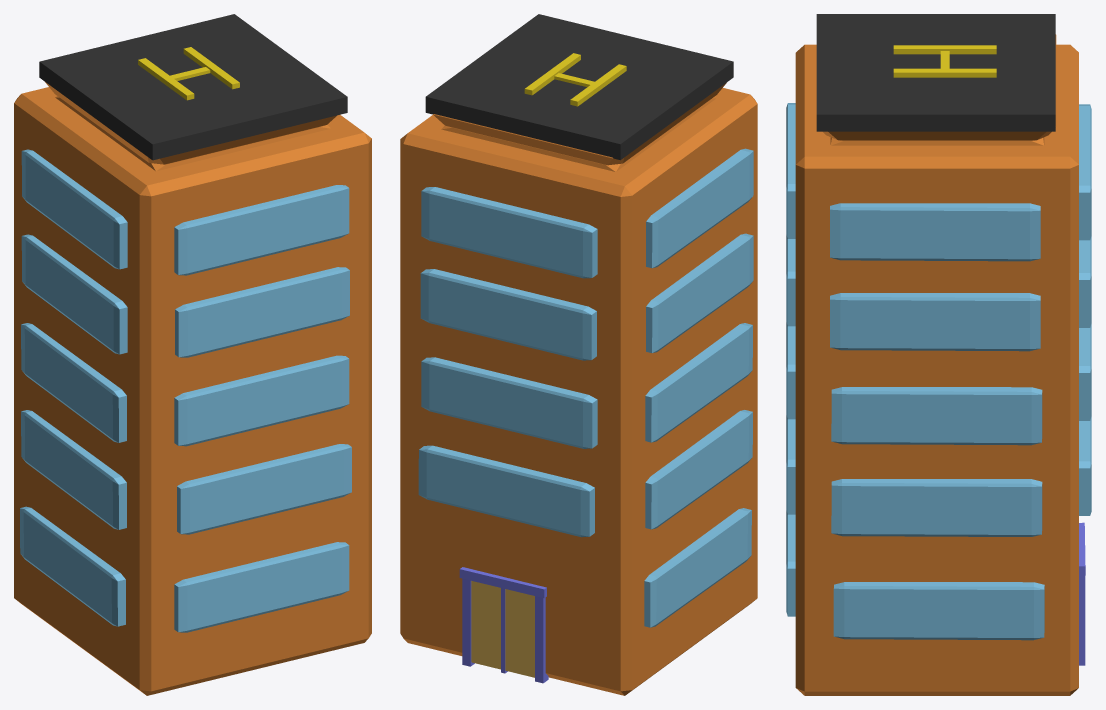
Rendered from building5.fbx.
3 renders of one model, left to right at view 1: azimuth 30°, elevation 25°; view 2: azimuth 150°, elevation 25°; view 3: azimuth 270°, elevation 25°, orthographic. The views are drawn at different scales.
Parts seen in each view (by area): view 1: Cube.084, Cube, Cube.003, Cube.011, Cube.009, Cube.010, Cube.004, Cube.017, Cube.016, Cube.019, Cube.018, Cube.020 (+2 smaller); view 2: Cube.084, Cube, Cube.007, Cube.006, Cube.002, Cube.008, Cube.020, Cube.019, Cube.016, Cube.017, Cube.018, Cube.088 (+5 smaller); view 3: Cube.084, Cube, Cube.015, Cube.013, Cube.014, Cube.005, Cube.012, Cube.002, Cube.003, Cube.008, Cube.007, Cube.006 (+7 smaller).
Part boxes in pixels (box(x1,y1,x2,y2)): Cube.084: box(14, 82, 371, 695); Cube: box(39, 14, 347, 160); Cube.003: box(174, 185, 349, 275); Cube.011: box(174, 542, 349, 632); Cube.009: box(174, 355, 349, 446); Cube.010: box(177, 444, 351, 534); Cube.004: box(175, 267, 349, 357); Cube.017: box(21, 234, 127, 354); Cube.016: box(21, 149, 127, 269); Cube.019: box(21, 410, 126, 529); Cube.018: box(21, 323, 126, 442); Cube.020: box(20, 506, 125, 626); Cube.084: box(400, 82, 757, 695); Cube: box(425, 14, 733, 160); Cube.007: box(421, 357, 597, 448); Cube.006: box(420, 269, 596, 360); Cube.002: box(421, 187, 597, 278); Cube.008: box(418, 445, 594, 537); Cube.020: box(644, 508, 751, 627); Cube.019: box(645, 410, 752, 529); Cube.016: box(646, 148, 753, 268); Cube.017: box(646, 233, 753, 353); Cube.018: box(645, 323, 752, 442); Cube.088: box(471, 581, 534, 677); Cube.084: box(795, 34, 1078, 695); Cube: box(816, 14, 1055, 131); Cube.015: box(833, 582, 1044, 640); Cube.013: box(831, 387, 1042, 445); Cube.014: box(831, 479, 1042, 536); Cube.005: box(830, 203, 1040, 261); Cube.012: box(830, 293, 1040, 351); Cube.002: box(1079, 104, 1091, 240); Cube.003: box(786, 103, 795, 238); Cube.008: box(1079, 417, 1091, 515); Cube.007: box(1079, 324, 1091, 420); Cube.006: box(1079, 236, 1091, 327).
Bounding box in the file's own units: 488 × 1019 × 484.
